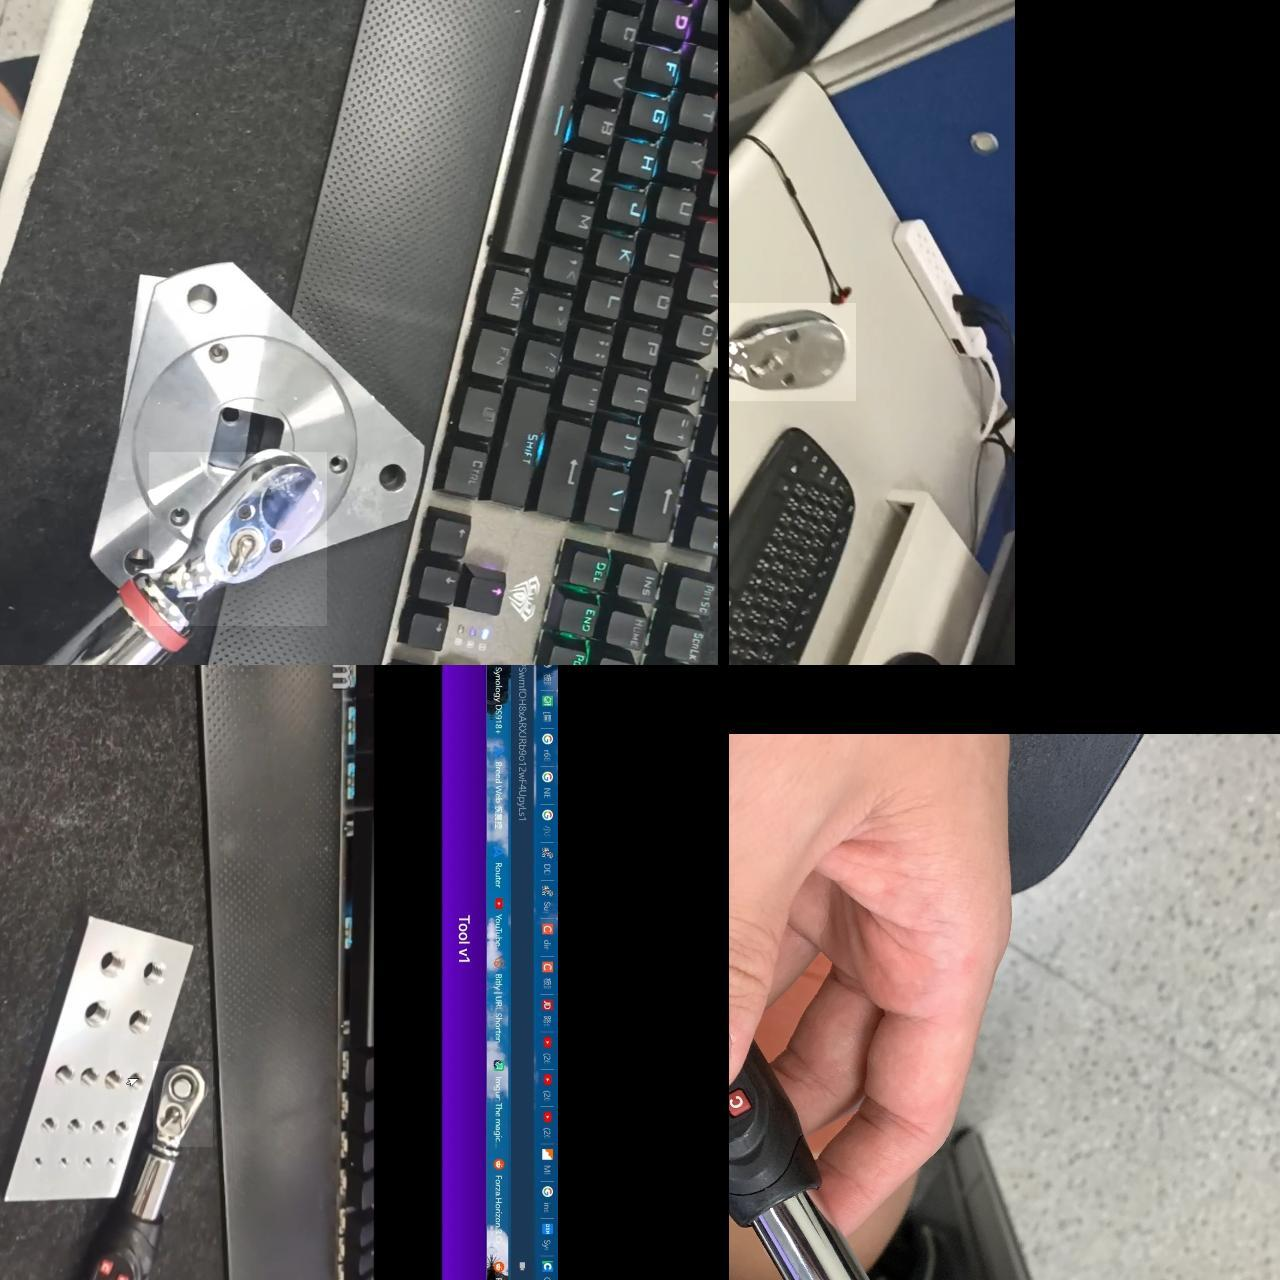Tool: (148, 452, 326, 626), (729, 302, 855, 401), (152, 1061, 212, 1148)
